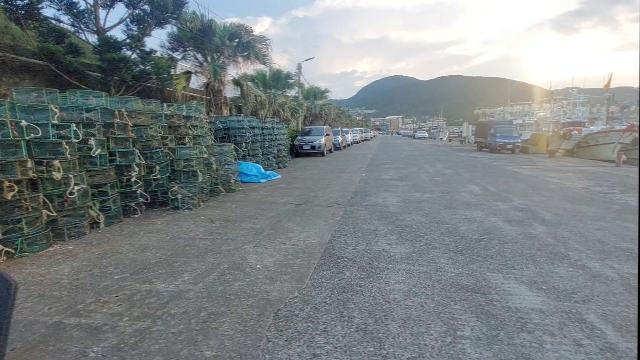pollute: (230, 161, 281, 183)
